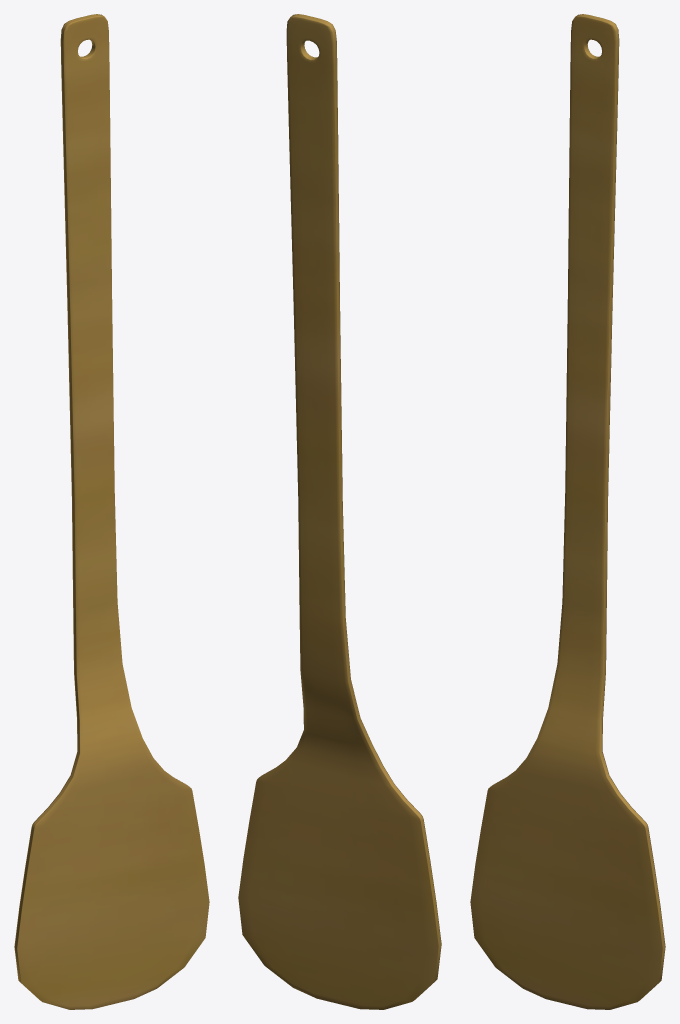
The picture shows the model from 3 angles, left to right: view 1: azimuth 30°, elevation 25°; view 2: azimuth 150°, elevation 25°; view 3: azimuth 330°, elevation 25°; orthographic projection. The views are drawn at different scales.
Parts seen in each view (by area): view 1: SUDIP; view 2: SUDIP; view 3: SUDIP.
Part boxes in pixels (left/top/right/bottom): SUDIP: left=14, top=14, right=209, bottom=1009; SUDIP: left=238, top=14, right=441, bottom=1009; SUDIP: left=470, top=14, right=665, bottom=1009.
Size of the model in its own units: 2.17 by 10.42 by 0.6091.
1 material, 1 textured.
